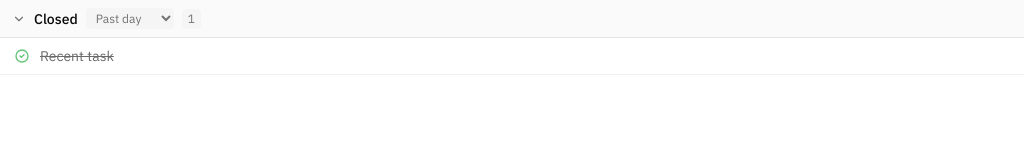
Scenario: TaskList › closed tasks time filter › filters closed tasks based on time selection
The image size is (1024, 160).
Expected: the text "Recent task" is shown, top-left (40, 47), bottom-right (114, 65)
Expected: the text "Old task" is not shown
Note: Change to past_week
Select "Past week" in the dropdown named "Filter closed tasks by time" at (130, 18), box top-left (86, 8), bottom-right (174, 29)
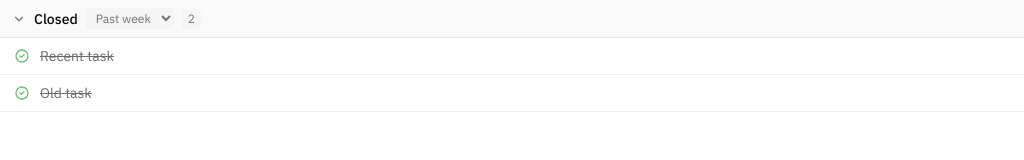
Expected: the text "Recent task" is shown, top-left (40, 47), bottom-right (114, 65)
Expected: the text "Old task" is shown, top-left (40, 84), bottom-right (92, 102)
